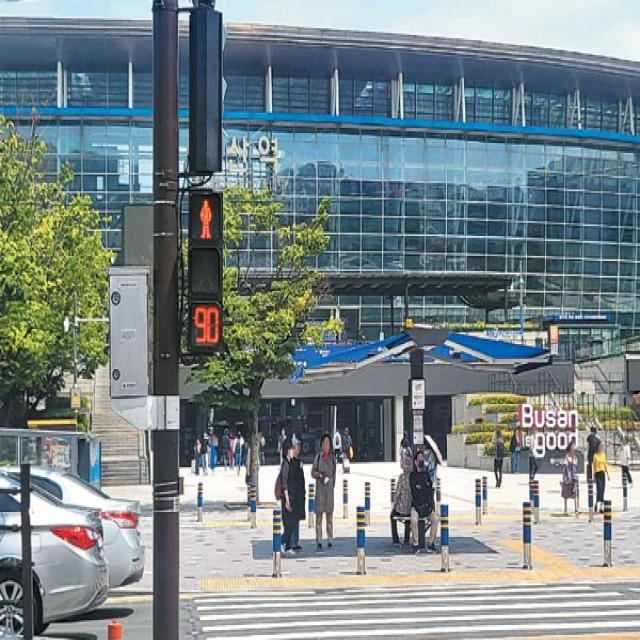Not go: (183, 196, 226, 350), (188, 195, 218, 242)
